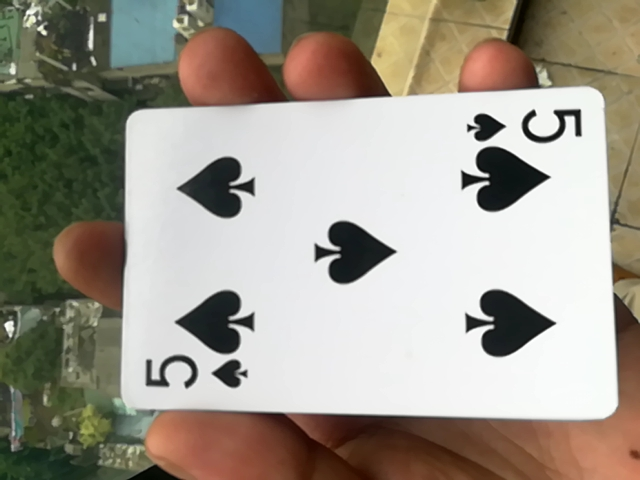ht 5: (102, 98, 621, 433)
